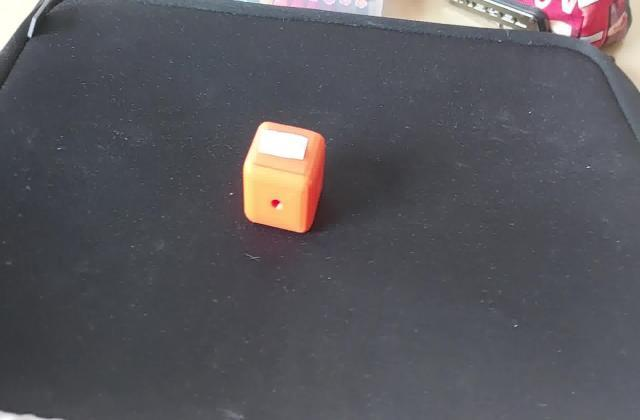cube: (240, 116, 332, 238)
white: (262, 131, 314, 164)
